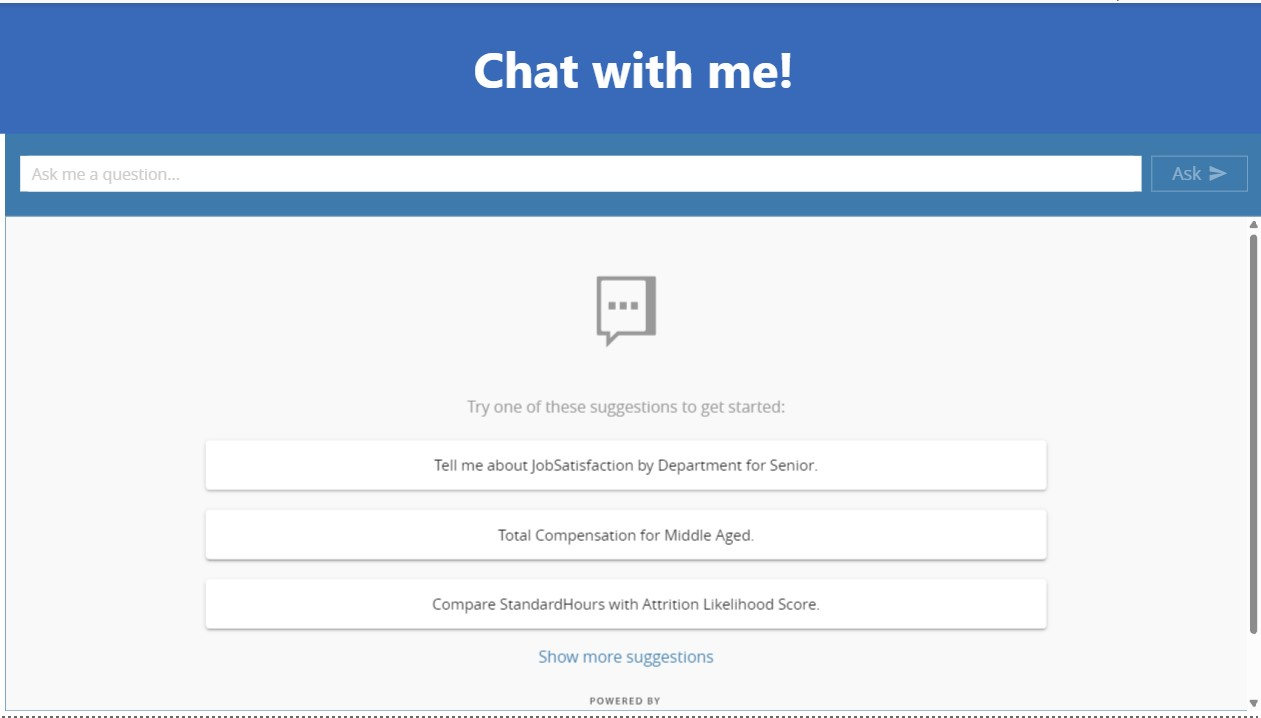

The dashboard page shown, as its layout file describes it:
{"tool":"powerbi","page":{"name":"Chat Bot","canvas":[1280,720],"ordinal":2},"visuals":[{"type":"ArriaNLG796e95864265477b96ca1e51852ddddd","fields":{"values":["HR-Employee-Attrition (2).Overall_Score","HR-Employee-Attrition (2).OverTime","HR-Employee-Attrition (2).PercentSalaryHike","HR-Employee-Attrition (2).PerformanceRating","HR-Employee-Attrition (2).RelationshipSatisfaction","HR-Employee-Attrition (2).Salary-Experience Ratio","HR-Employee-Attrition (2).StandardHours","HR-Employee-Attrition (2).StockOptionLevel","HR-Employee-Attrition (2).Total Compensation","Sum(HR-Employee-Attrition (2).TotalWorkingYears)","Sum(HR-Employee-Attrition (2).VariablePay)","Sum(HR-Employee-Attrition (2).TrainingTimesLastYear)"]},"box":[0,0,1279.5,719.2],"z":0},{"type":"shape","box":[0,0,1279.5,131.7],"z":1000}]}

Visuals, with their boxes in screenshot pixels (x1, y1, x2, y2), scaled from the page's 1280x720 canvas onto the 1261x718 screenshot:
ArriaNLG796e95864265477b96ca1e51852ddddd - HR-Employee-Attrition (2).Overall_Score x HR-Employee-Attrition (2).OverTime: BBox(0, 0, 1260, 717)
shape: BBox(0, 0, 1260, 131)
